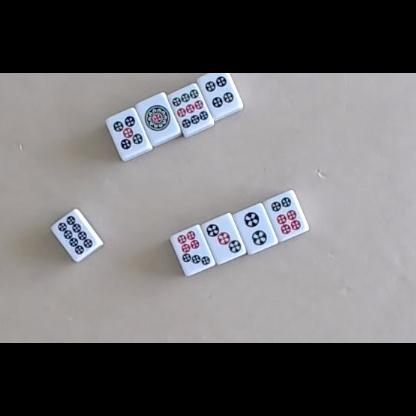1p: (145, 105, 170, 132)
2p: (244, 211, 268, 247)
3p: (206, 222, 241, 255)
4p: (205, 76, 234, 109)
5p: (113, 116, 143, 150)
6p: (270, 196, 301, 236)
7p: (177, 230, 210, 266)
8p: (57, 216, 93, 257)
9p: (172, 90, 209, 129)
